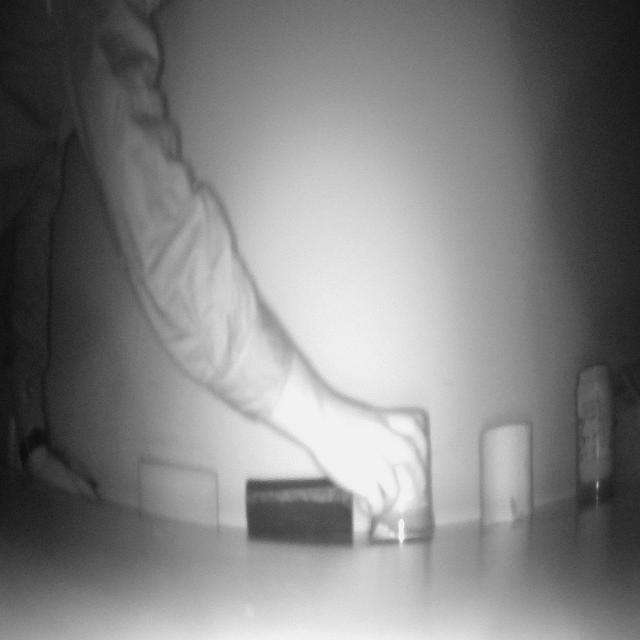targets: (372, 406, 432, 548), (242, 479, 357, 549), (571, 354, 613, 510), (479, 418, 535, 527), (140, 458, 221, 528), (608, 359, 640, 482)
